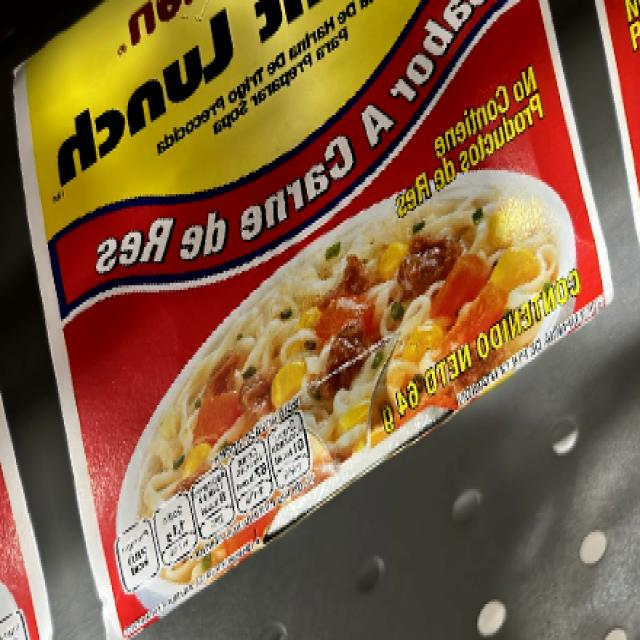maruchanRes: (43, 2, 588, 449)
